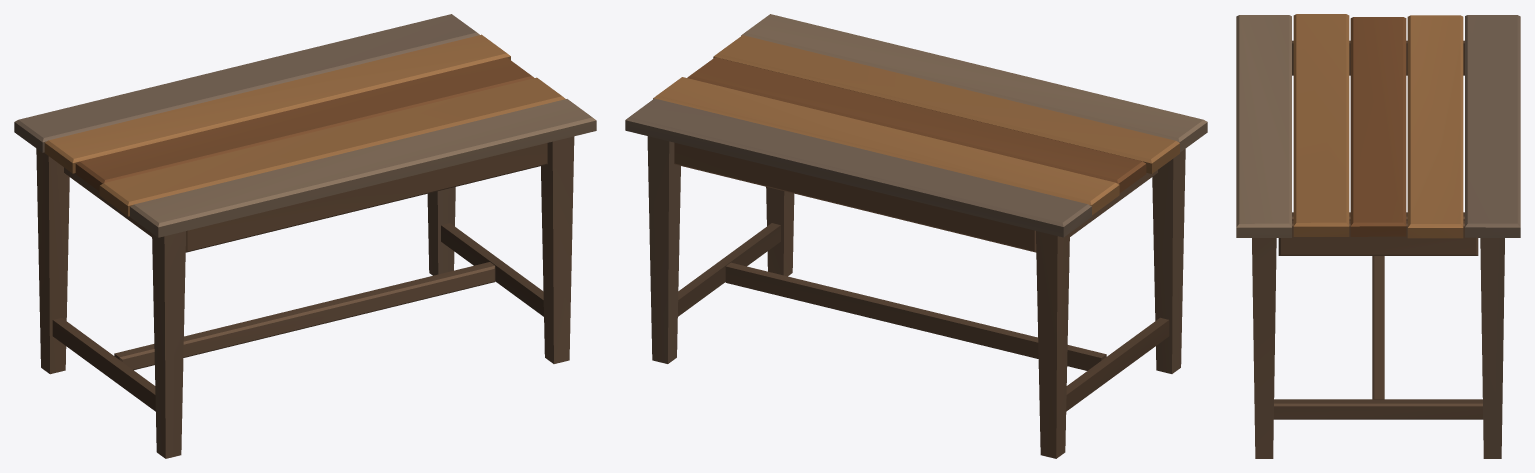
The model's file is wooden_table_01.glb.
The picture shows the model from 3 angles, left to right: view 1: azimuth 30°, elevation 25°; view 2: azimuth 150°, elevation 25°; view 3: azimuth 270°, elevation 25°; orthographic projection.
Visible parts, largest first — view 1: wooden_table_01_body; view 2: wooden_table_01_body; view 3: wooden_table_01_body.
Part boxes in pixels (bbox=[...]): wooden_table_01_body: bbox=[14, 14, 596, 458]; wooden_table_01_body: bbox=[625, 14, 1207, 458]; wooden_table_01_body: bbox=[1236, 14, 1520, 458].
Size of the model in its own units: 1.41 by 0.7504 by 0.7961.
